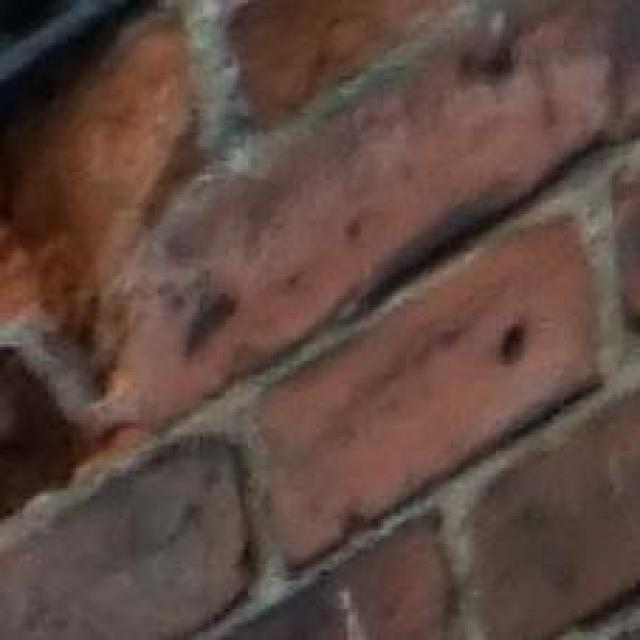Crack: (0, 0, 290, 494)
